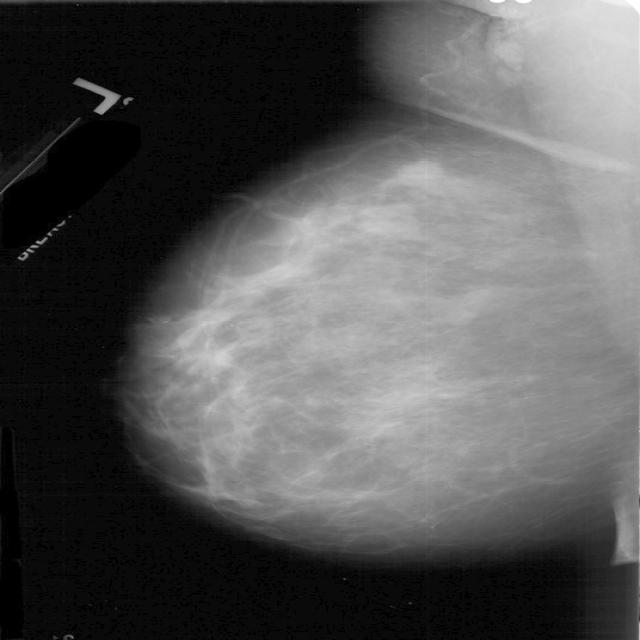tumour: (390, 158, 440, 186)
